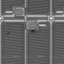dust: (31, 29, 34, 32), (7, 31, 10, 34)
